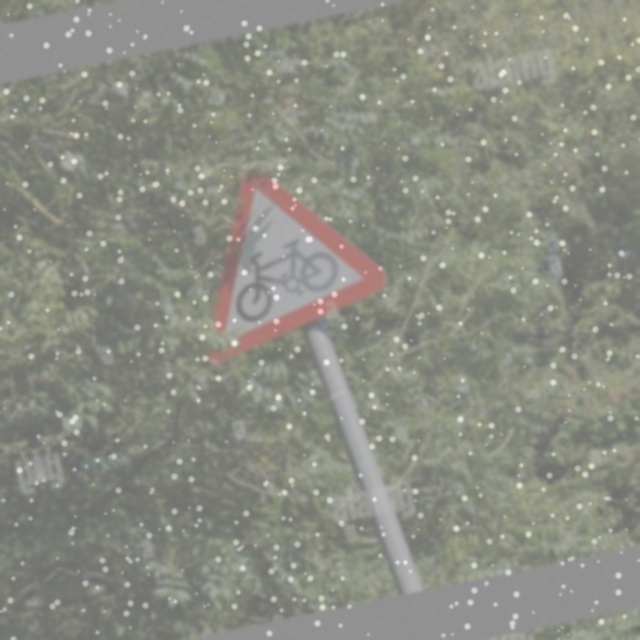Cycle_Crossing: (180, 144, 402, 352)
